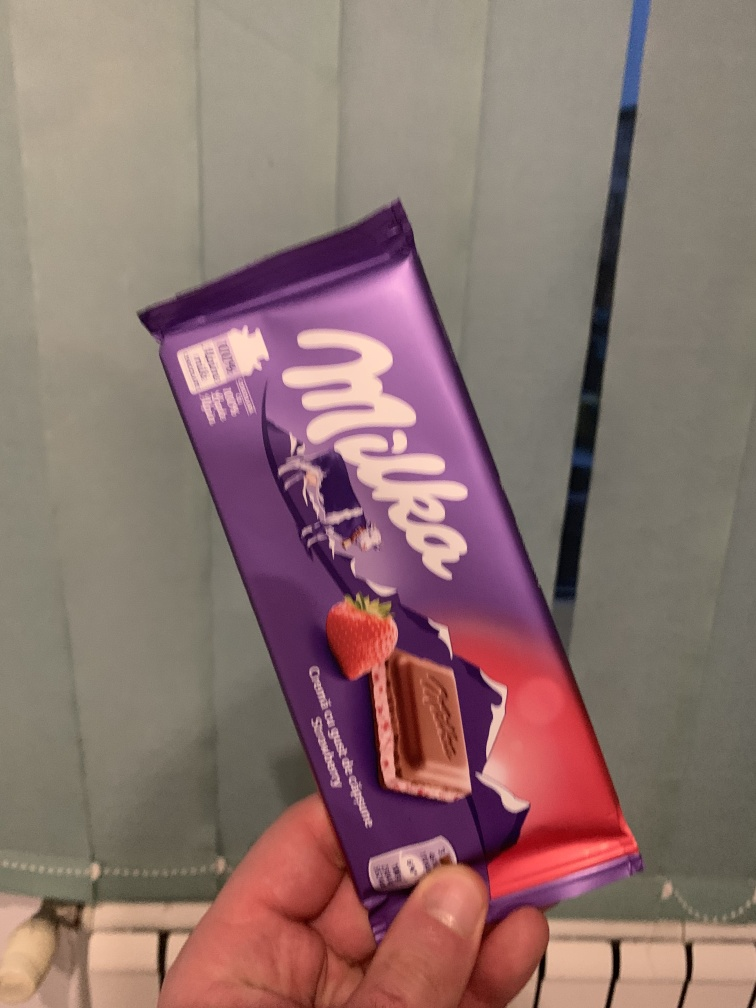milka: (136, 197, 645, 902)
